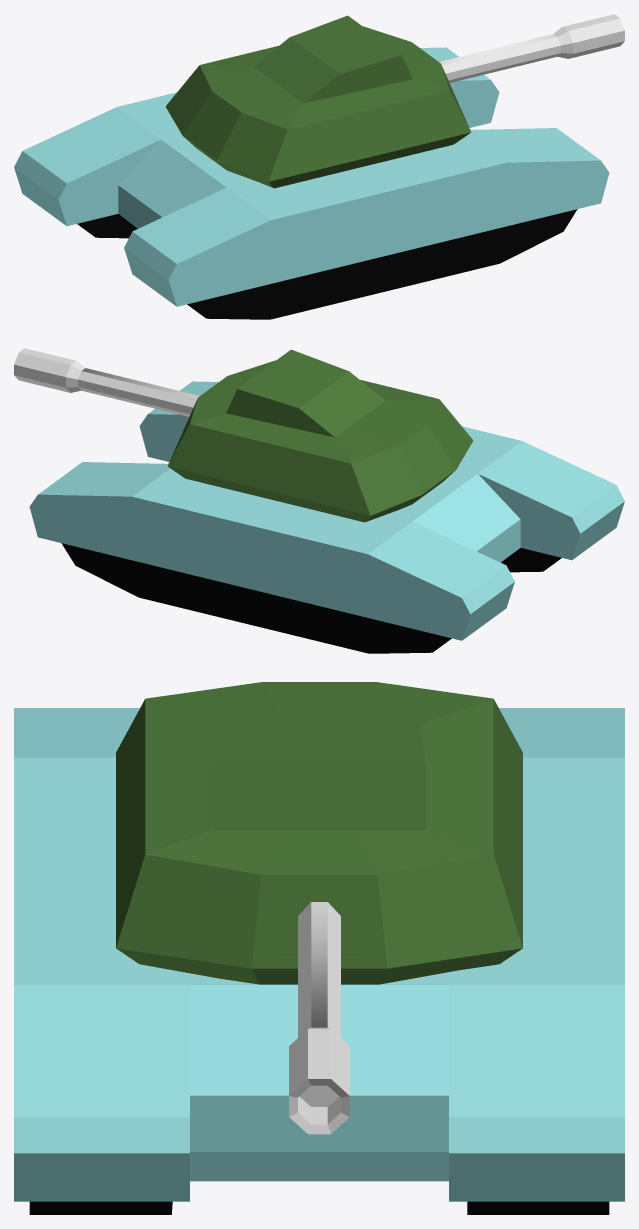
The model's file is DemoTank.fbx.
The picture shows the model from 3 angles, top to bottom: view 1: azimuth 30°, elevation 25°; view 2: azimuth 150°, elevation 25°; view 3: azimuth 270°, elevation 25°; orthographic projection. The views are drawn at different scales.
Visible parts, largest first — view 1: Body, Top, Barrel; view 2: Body, Top, Barrel; view 3: Body, Top, Barrel.
Boxes of the visible parts, x1,y1,x2,y2 form: Body: (14,47,609,319); Top: (165,15,471,188); Barrel: (439,14,624,82); Body: (29,381,624,653); Top: (167,349,473,522); Barrel: (14,348,199,416); Body: (14,708,624,1214); Top: (116,682,522,984); Barrel: (289,902,349,1134).
Bounding box in the file's own units: 314 × 210 × 616.
